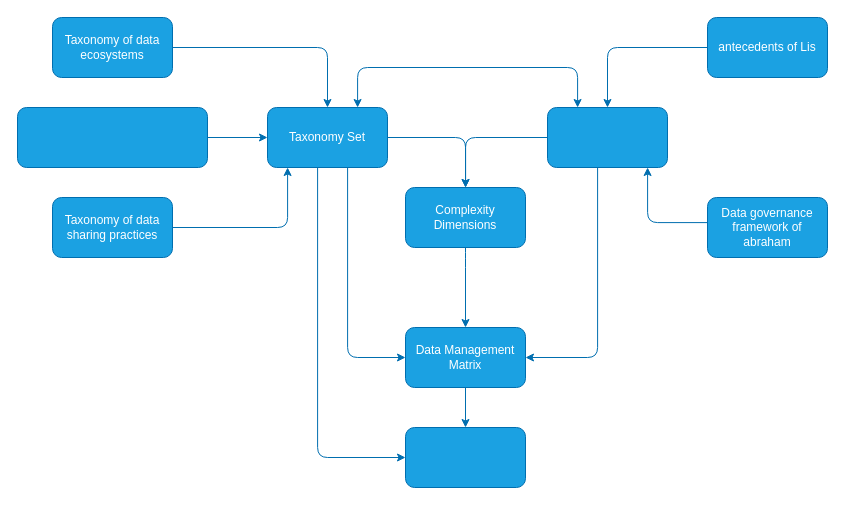
Some shapes in this 845 by 505 pixel diagram are drawn without their labels. Each missing label, with the centre of its shape:
"Governance Set" belongs at point (607, 137).
"Recommendations for managing the data ecosystem" belongs at point (465, 457).
"Taxonomy of incentive mechanisms for data sharing in data ecosystems" belongs at point (112, 137).
